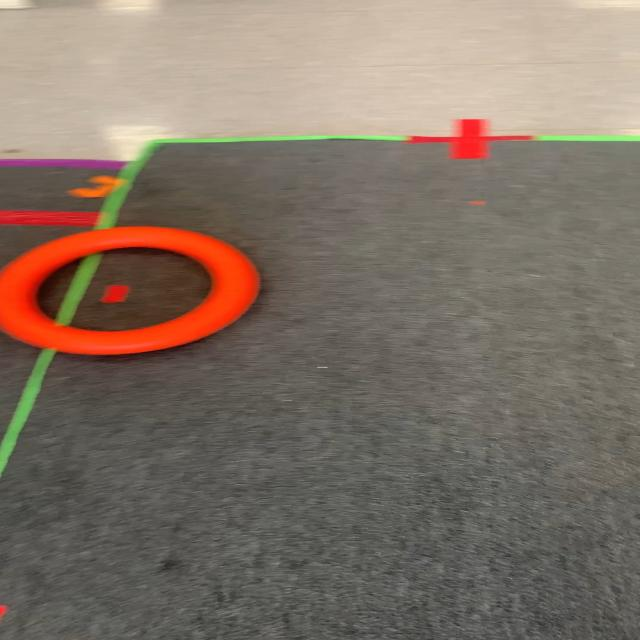notes: (0, 224, 264, 357)
